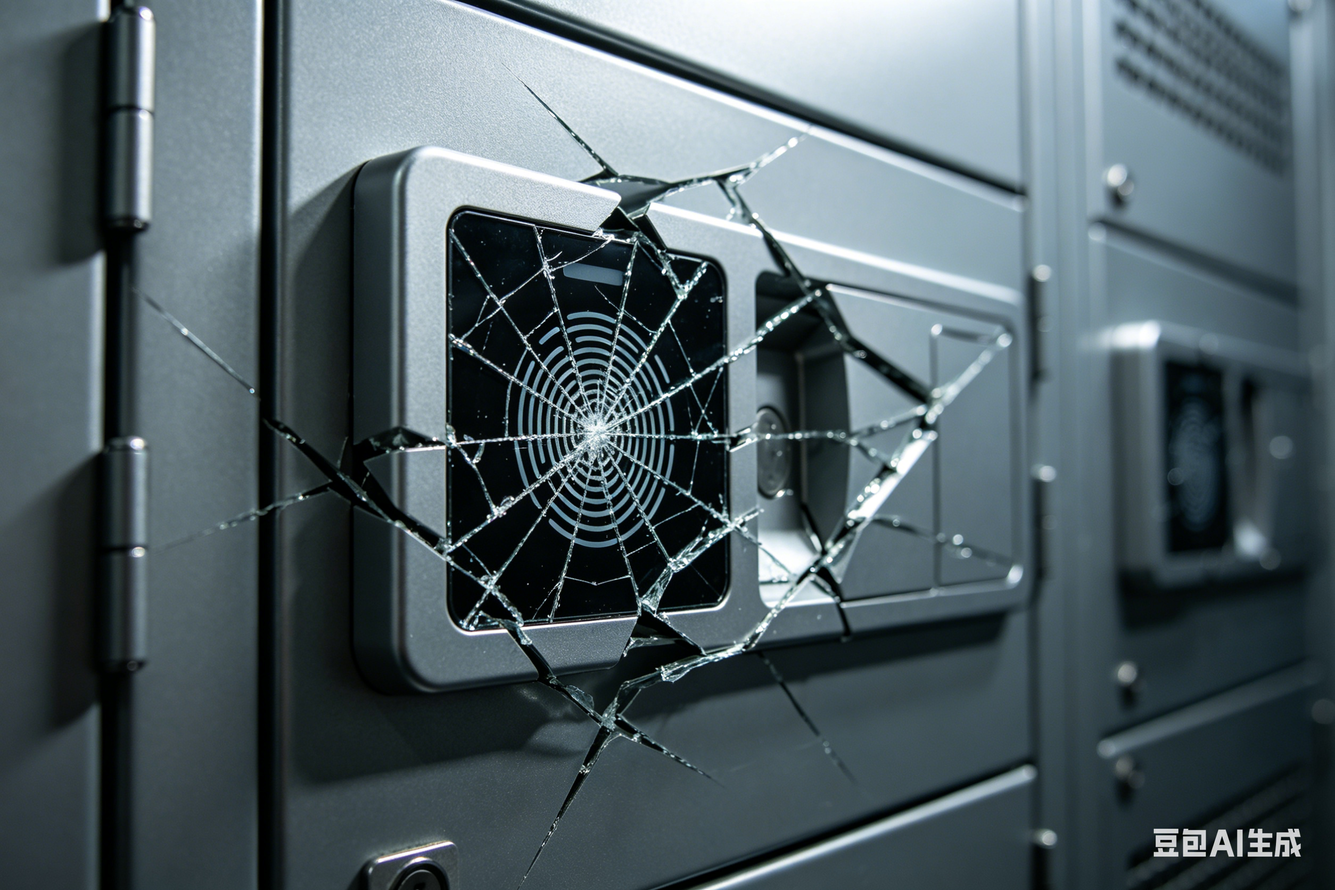BadLock: (449, 207, 862, 636)
